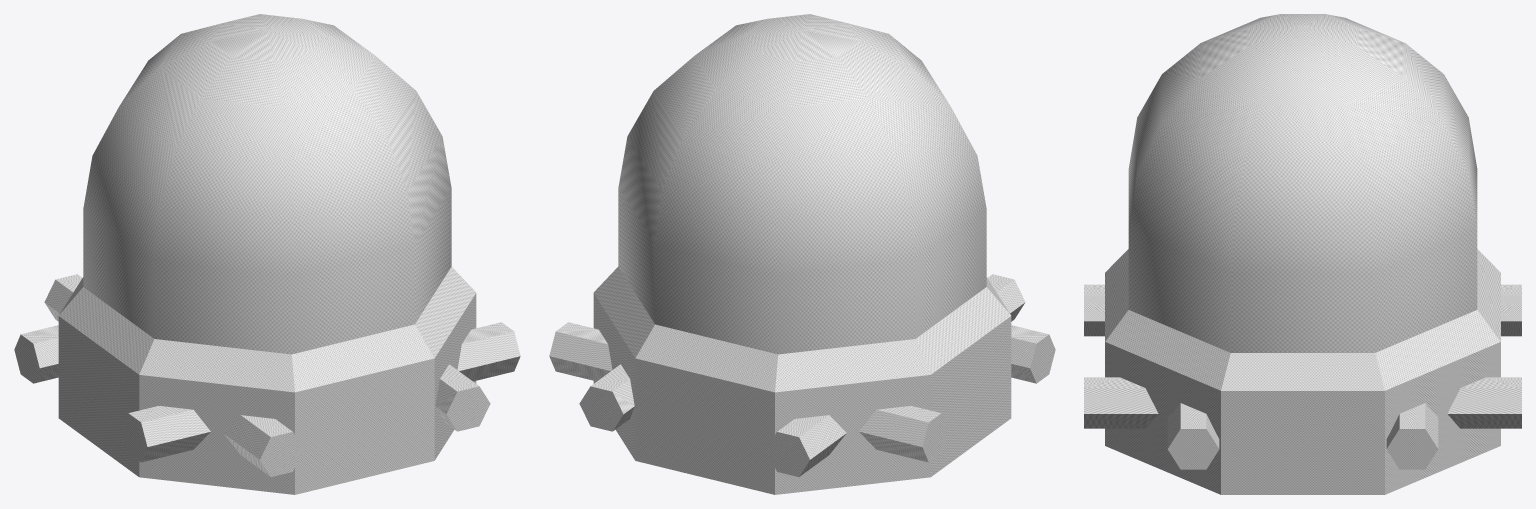
The model's file is Reactor.dae.
The picture shows the model from 3 angles, left to right: view 1: azimuth 30°, elevation 25°; view 2: azimuth 150°, elevation 25°; view 3: azimuth 270°, elevation 25°; orthographic projection.
Parts seen in each view (by area): view 1: Reactor; view 2: Reactor; view 3: Reactor.
Part boxes in pixels (left/top/right/bottom): Reactor: left=14, top=14, right=520, bottom=494; Reactor: left=549, top=14, right=1055, bottom=494; Reactor: left=1084, top=14, right=1521, bottom=494.
Size of the model in its own units: 2 by 1.93 by 2.
